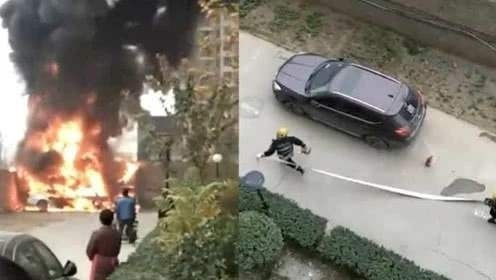fire: (15, 108, 126, 213)
